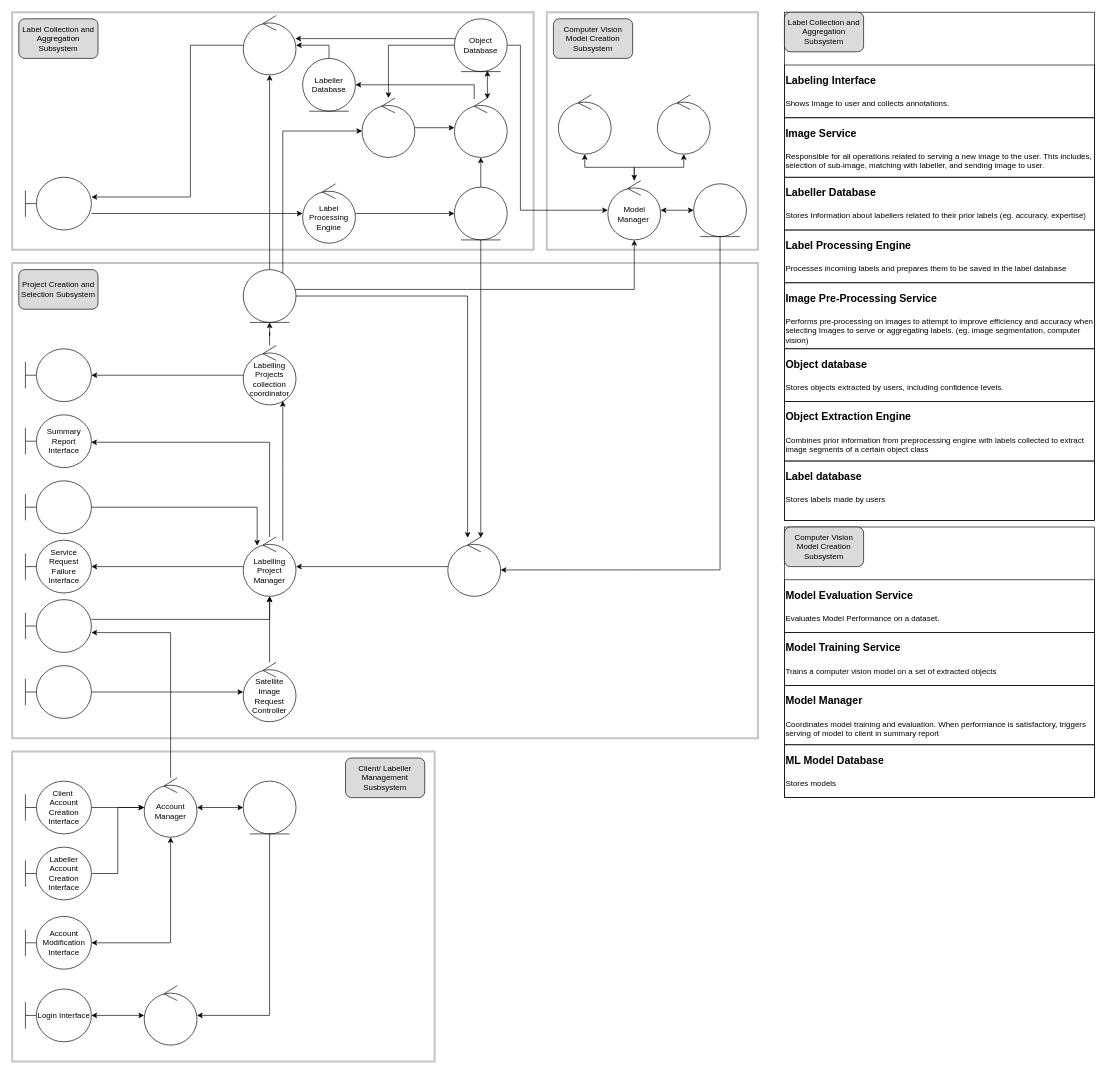
The diagram is 1106 pixels wide and 1074 high, and some of its shapes have lost their labels. Each missing label, with the centre of its shape:
"Account Information Database" goes at (269,807).
"Authentication Manager" goes at (170,1015).
"Image Pre-processing Service" goes at (388,127).
"Image Service" goes at (269,45).
"Image Upload Interface" goes at (58,507).
"Label Database" goes at (480,213).
"Labeling Interface" goes at (58,203).
"Labeling Project Database" goes at (269,295).
"Labelling Project Creation Interface" goes at (58,625).
"ML Model Database" goes at (719,210).
"Model Evaluation Service" goes at (584,124).
"Model Training Service" goes at (683,124).
"Object Extraction Engine" goes at (480,127).
"Project Selection Interface" goes at (58,375).
"Satellite Image Request Interface" goes at (58,691).
"Summary Report Engine" goes at (474,566).
